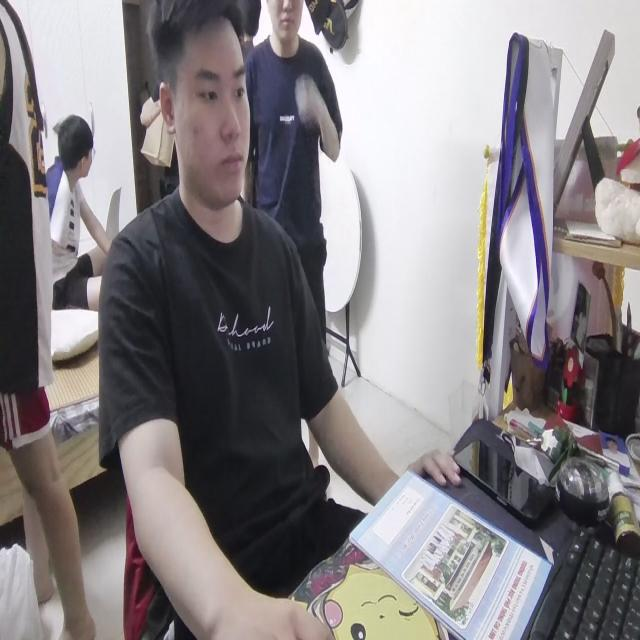book: (347, 464, 549, 640)
extra_person: (0, 0, 96, 640), (240, 0, 345, 345), (44, 105, 110, 292)
phone: (454, 434, 560, 534)
student: (98, 3, 463, 640)
